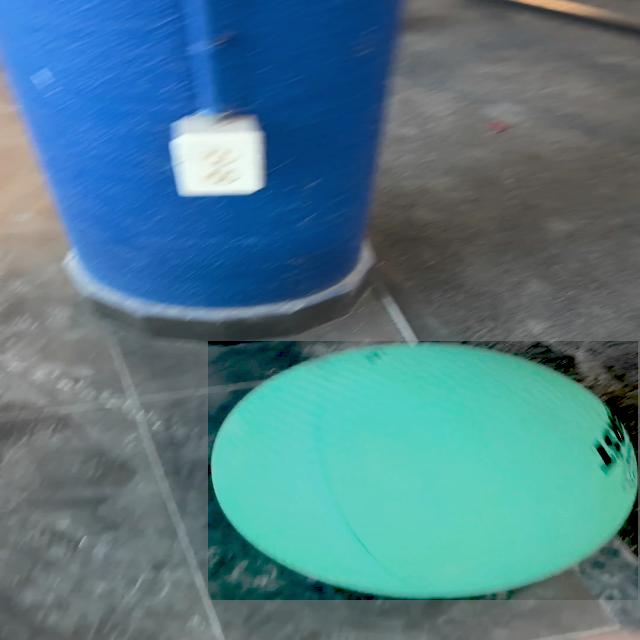Algae: (208, 341, 638, 600)
